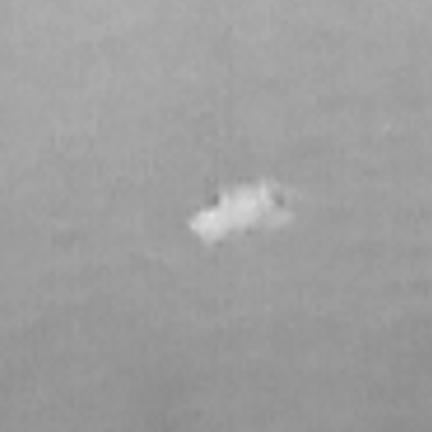flukeprints: (189, 178, 295, 246)
